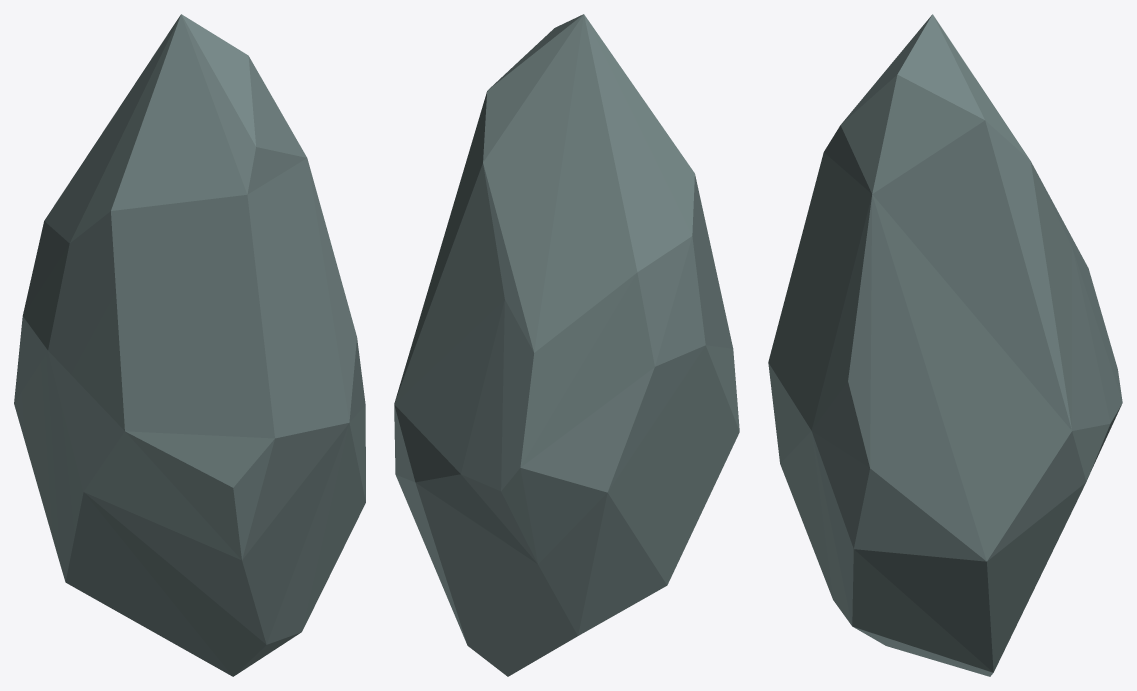
The model's file is Stone Spike.fbx.
3 views of the same model, side by side, from view 1: azimuth 30°, elevation 25°; view 2: azimuth 150°, elevation 25°; view 3: azimuth 270°, elevation 25° (orthographic). The views are drawn at different scales.
Visible parts, largest first — view 1: SM_Env_Rock_Spike_03; view 2: SM_Env_Rock_Spike_03; view 3: SM_Env_Rock_Spike_03.
Part boxes in pixels (bbox=[...]): SM_Env_Rock_Spike_03: bbox=[14, 14, 365, 676]; SM_Env_Rock_Spike_03: bbox=[394, 14, 739, 676]; SM_Env_Rock_Spike_03: bbox=[768, 14, 1122, 676].
Bounding box in the file's own units: 101 × 220 × 110.
